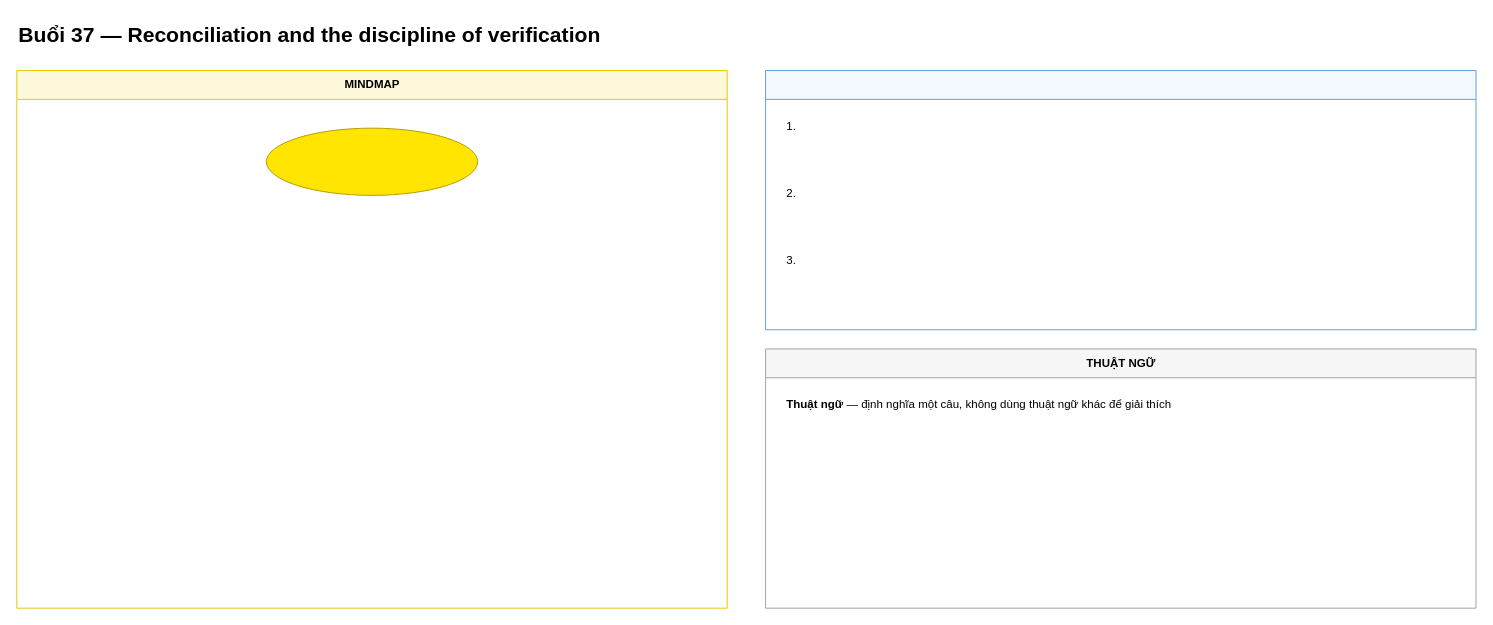
Some shapes in this 1493 by 625 pixel diagram are drawn without their labels. The box of each missing label's shape, as (x1, y1, x2, y2) in pixels:
KEY TAKEAWAY — ba điều phải nhớ: (765, 70, 1476, 330)
Reconciliation and the discipline of verification: (265, 127, 478, 195)
